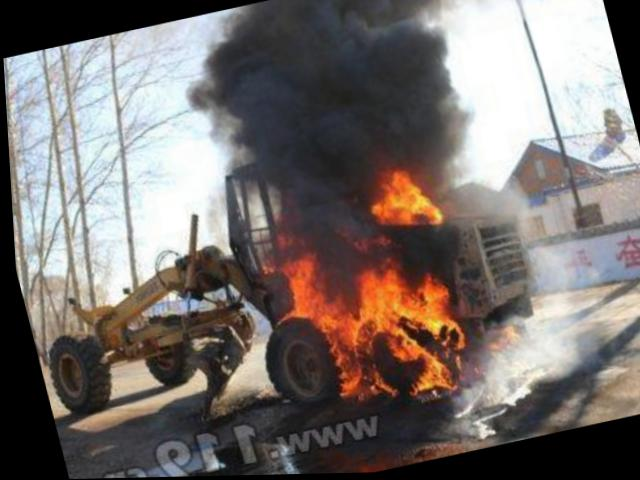fire: (322, 306, 381, 393), (351, 264, 408, 331), (281, 250, 330, 321), (370, 194, 440, 229), (414, 278, 451, 334), (408, 357, 451, 390), (379, 169, 420, 203), (400, 288, 424, 325), (387, 335, 418, 361)
